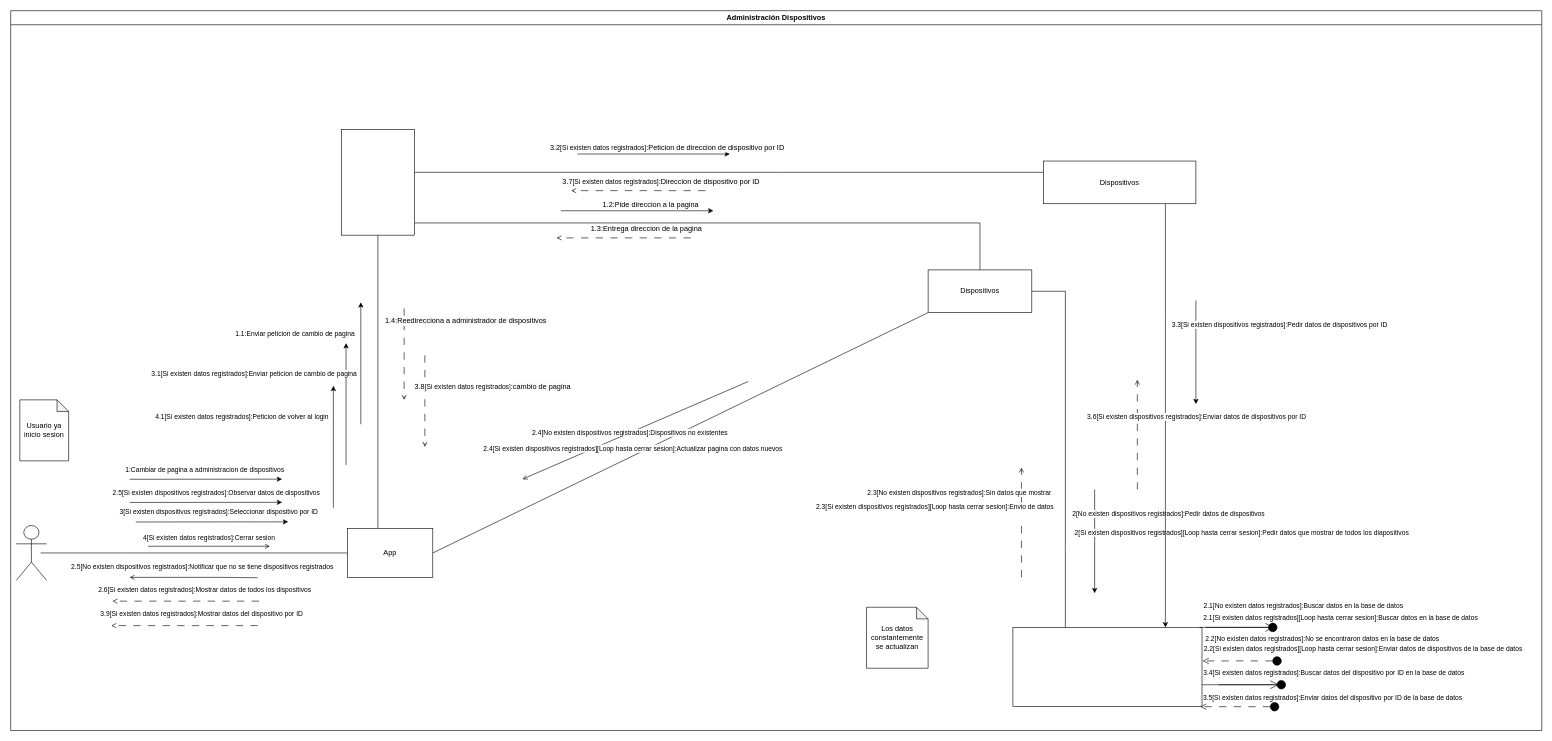
The diagram is 1552 pixels wide and 741 high, and some of its shapes have lost their labels. The shapes that lost their labels are listed below. From the top down, each one's centre as x and y in pixels, then its label:
At pixel 377 182: "BaseRouter".
At pixel 31 552: "Usuario".
At pixel 1107 667: "API".
